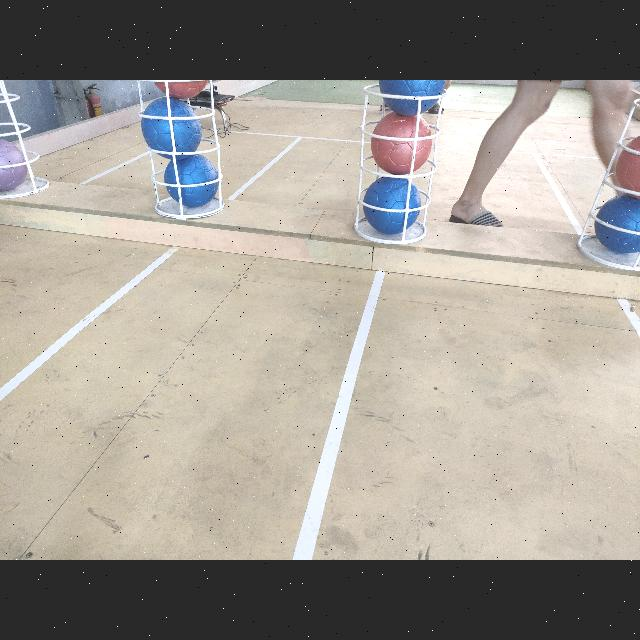B: (140, 99, 202, 159), (362, 178, 423, 235), (164, 154, 218, 208), (594, 198, 640, 255), (379, 80, 445, 116)
R: (371, 115, 433, 175), (616, 135, 640, 195), (154, 80, 208, 98)
